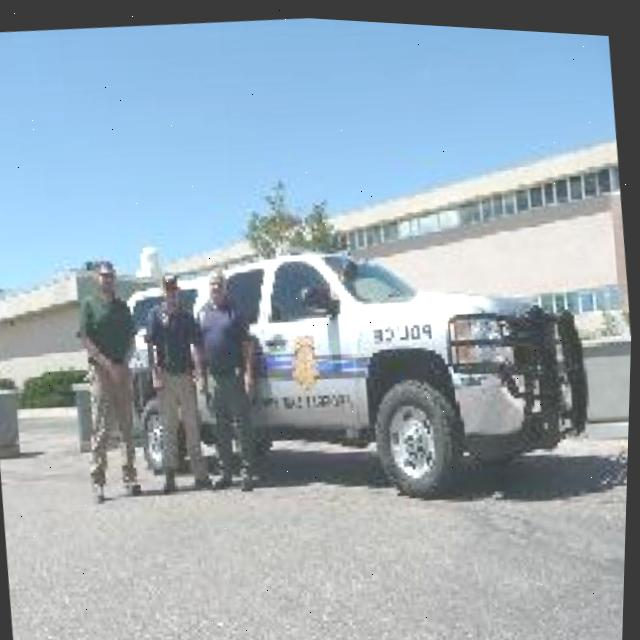emergency: (114, 205, 607, 527)
